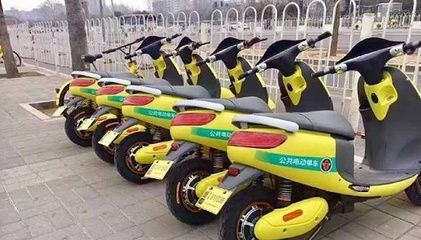non-vehicle: (207, 35, 419, 234), (154, 32, 339, 222), (115, 33, 272, 185)
